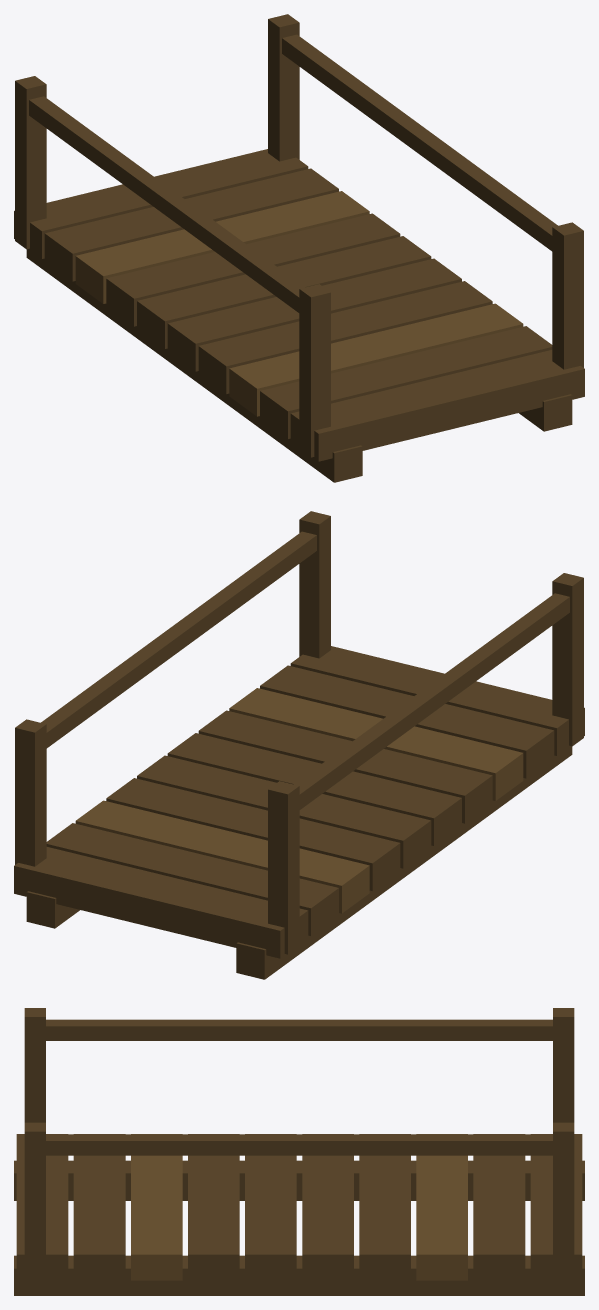
The model's file is bridge.glb.
The picture shows the model from 3 angles, top to bottom: view 1: azimuth 30°, elevation 25°; view 2: azimuth 150°, elevation 25°; view 3: azimuth 270°, elevation 25°; orthographic projection. The views are drawn at different scales.
Visible parts, largest first — view 1: bridge; view 2: bridge; view 3: bridge.
Boxes of the visible parts, left/top/right/bottom form: bridge: left=14, top=14, right=584, bottom=482; bridge: left=14, top=511, right=584, bottom=979; bridge: left=14, top=1008, right=584, bottom=1295.
Size of the model in its own units: 1.64 by 1.07 by 3.2.
